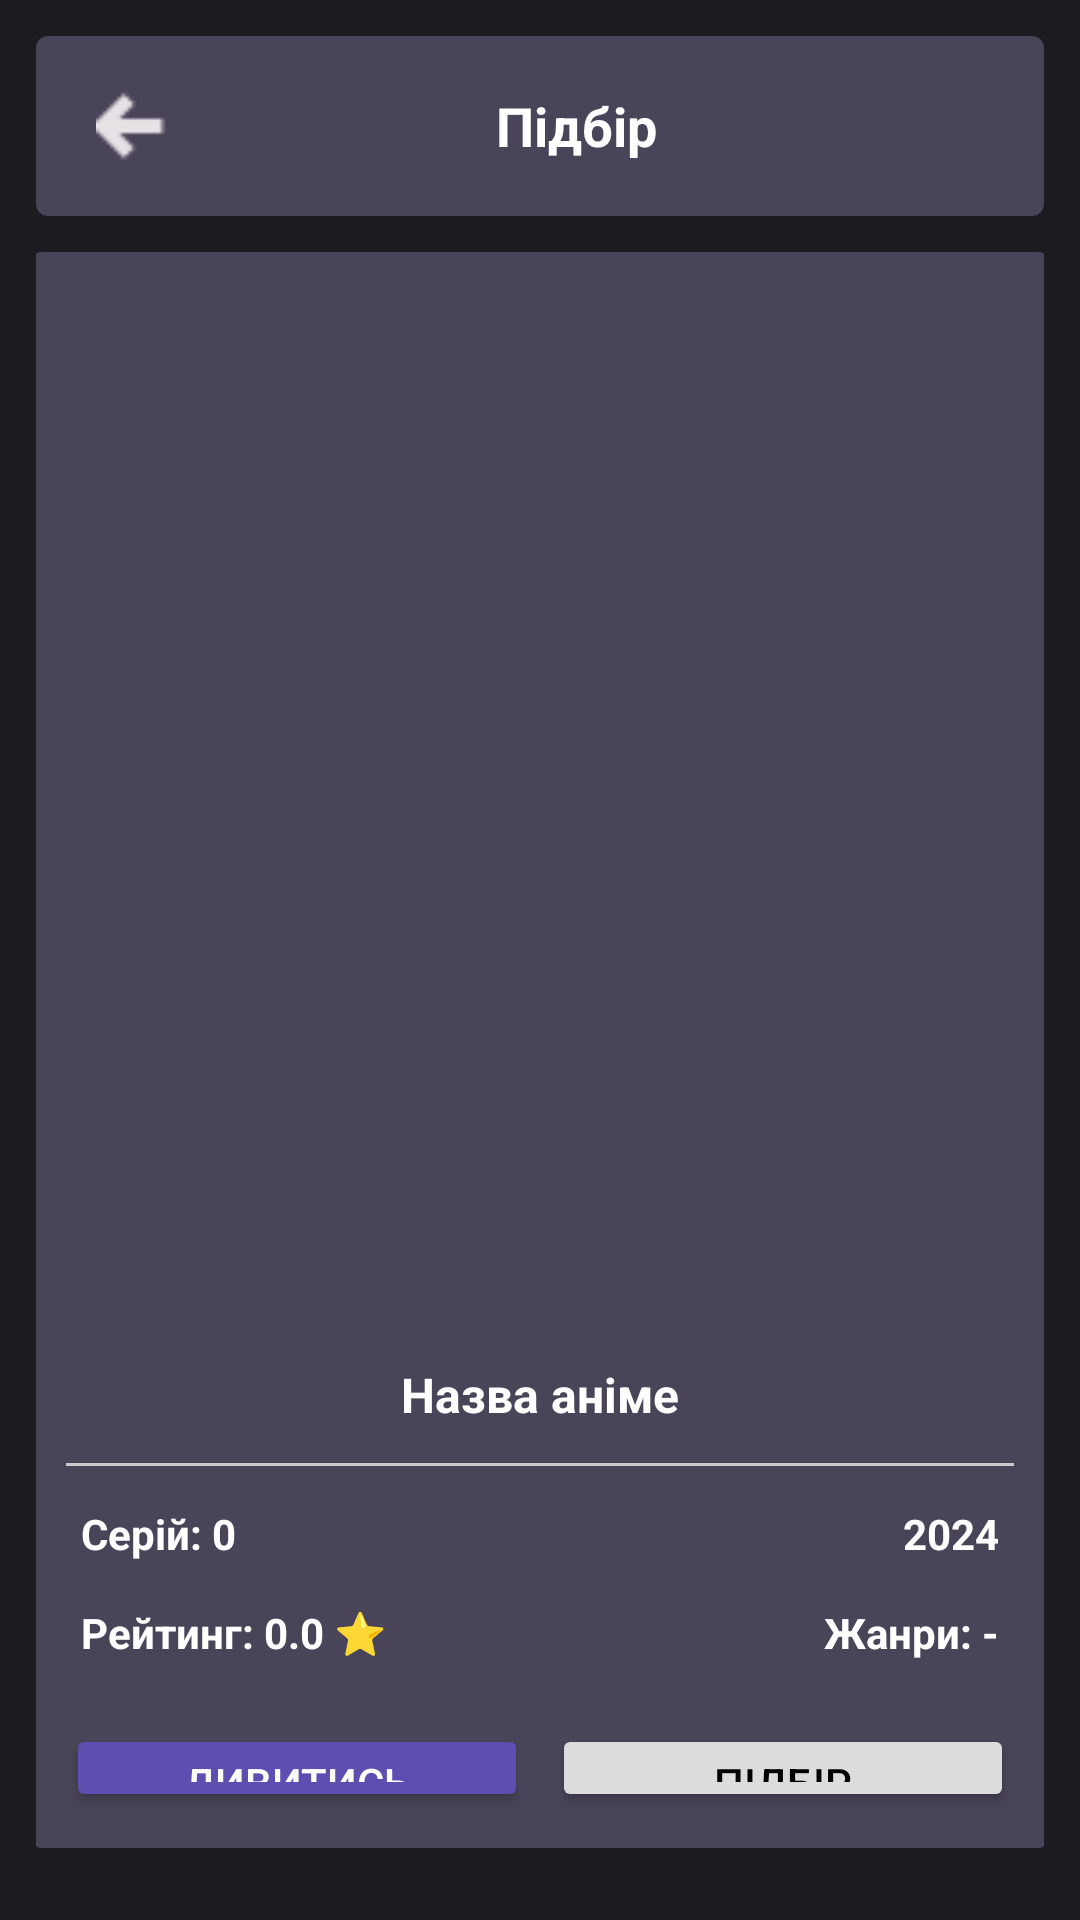

Icons on this 1080 × 1920 Android screen, each with the point to tap as [x,y]:
strilka: [130,126]
